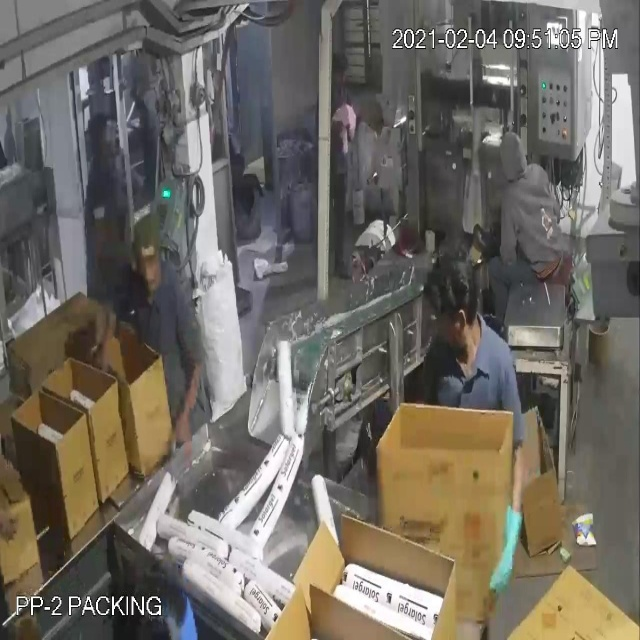Guantes: (486, 489, 536, 607)
Sin_guantes: (164, 336, 207, 476), (91, 292, 132, 380)
